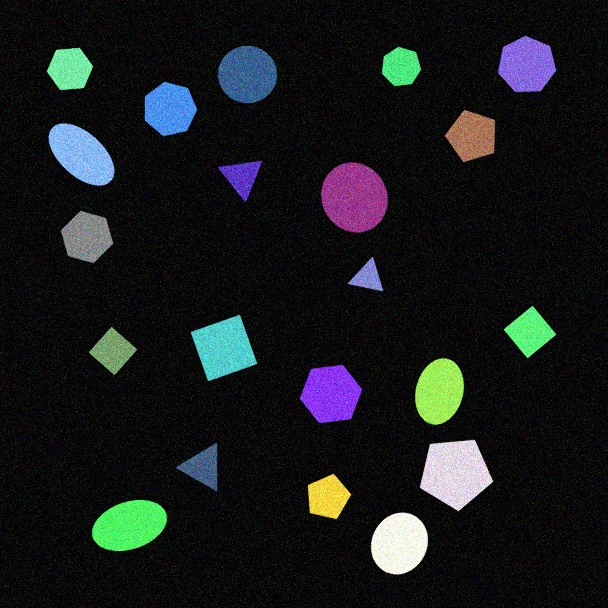Circulo: (320, 162, 389, 233), (370, 512, 429, 575), (217, 45, 278, 104)
Elipse: (48, 123, 115, 186), (91, 499, 168, 552), (414, 357, 465, 426)
Heptagono: (497, 35, 557, 93), (144, 81, 198, 137), (381, 46, 422, 87)
Hexagono: (299, 364, 363, 424), (60, 210, 114, 264), (46, 47, 94, 91)
Pentagono: (419, 439, 494, 512), (444, 109, 496, 163), (307, 473, 352, 520)
Quadrado: (190, 314, 258, 382), (503, 305, 557, 359), (88, 326, 138, 376)
Triangulo: (176, 442, 218, 492), (217, 160, 263, 203), (347, 257, 384, 292)
